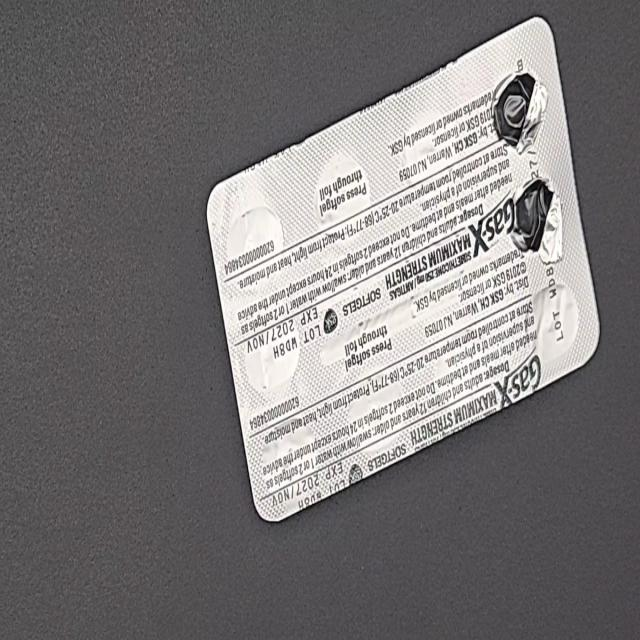defect: (490, 66, 550, 157), (510, 173, 566, 267)
